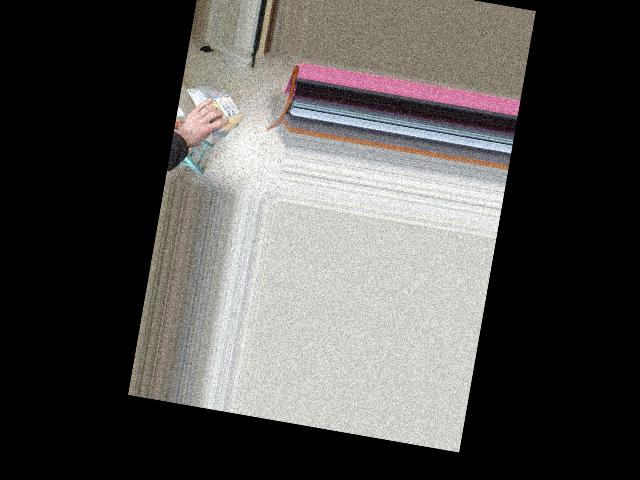cheese: (181, 83, 246, 137)
